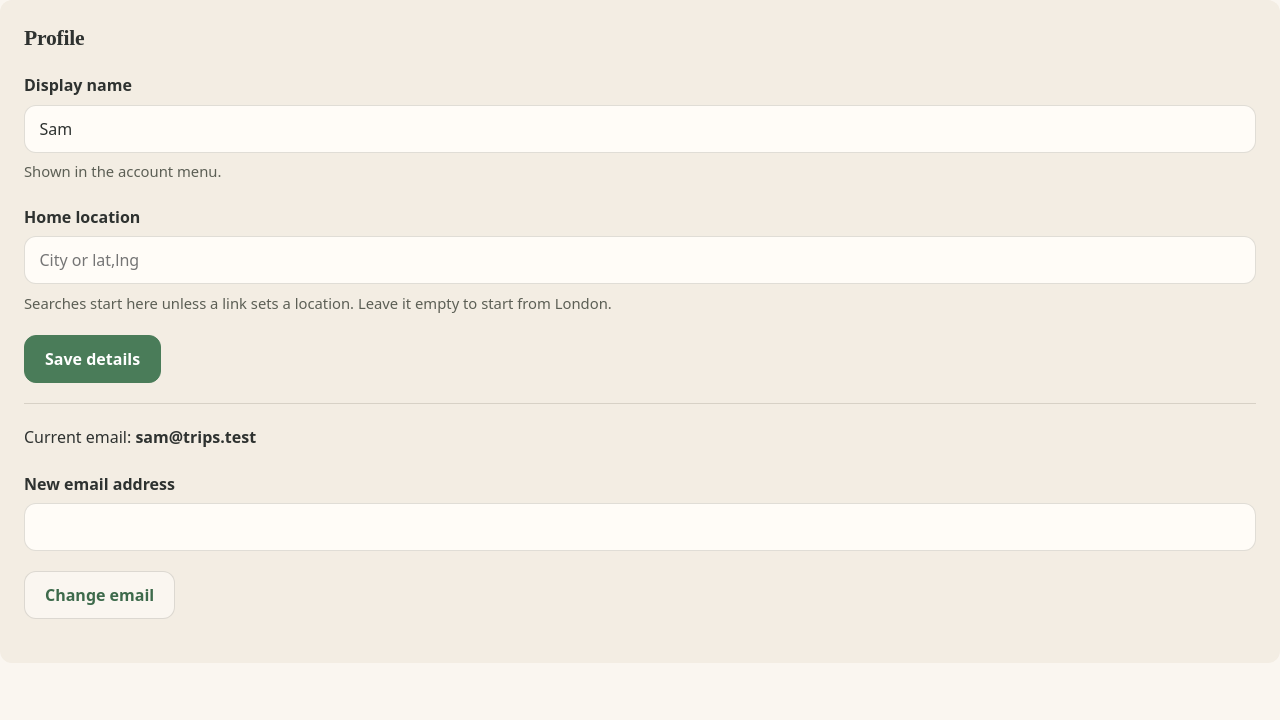
Test: ProfileSection › saves a trimmed name and a home location from the place search
The width and height of the screenshot is (1280, 720).
Replace the text in the field labelled "Display name" with "  Sam R  ": [640, 129] box [24, 105, 1256, 153]
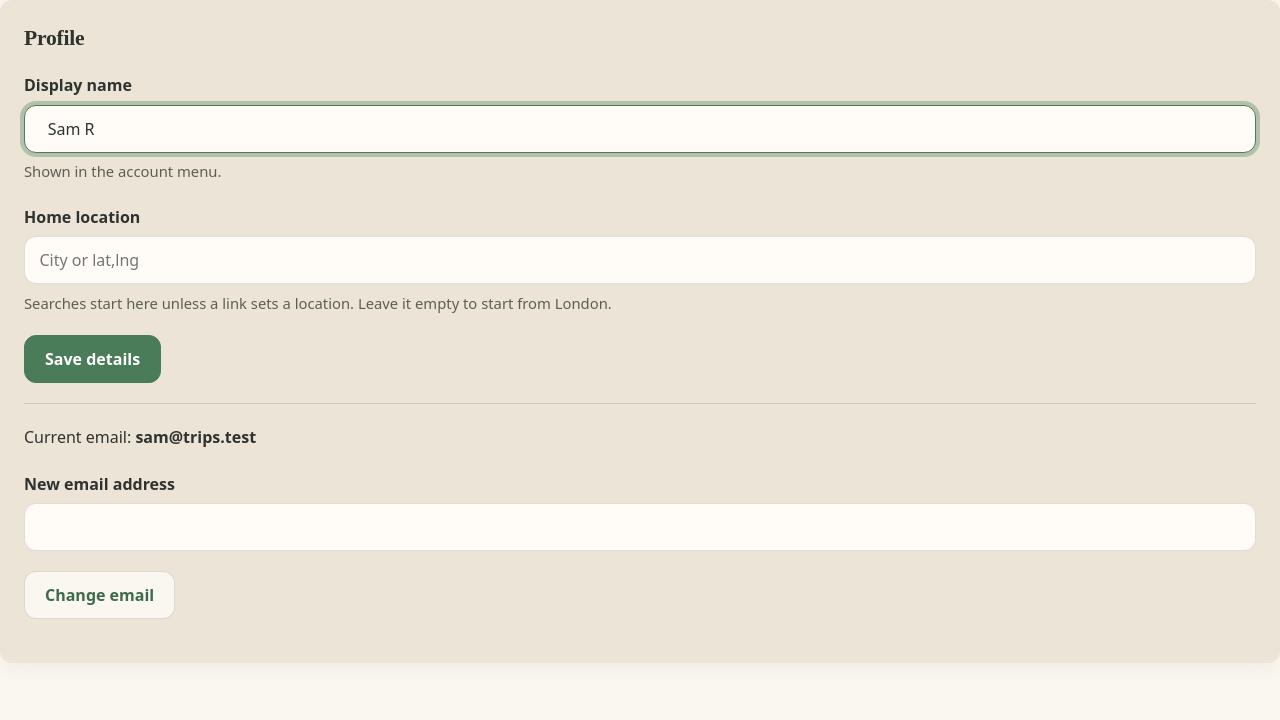
In the field labelled "Home location": [640, 260] box [24, 236, 1256, 284], type "bright"
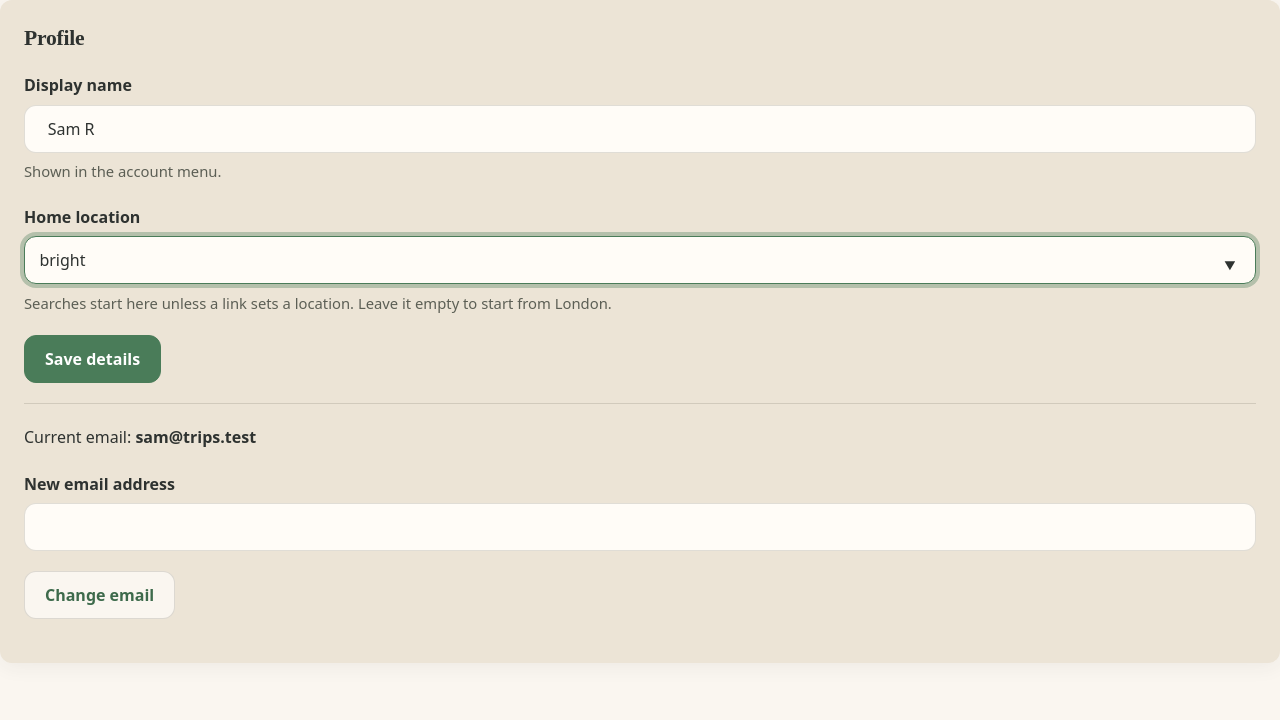
Click the button "Save details": [93, 359] box [24, 335, 161, 383]
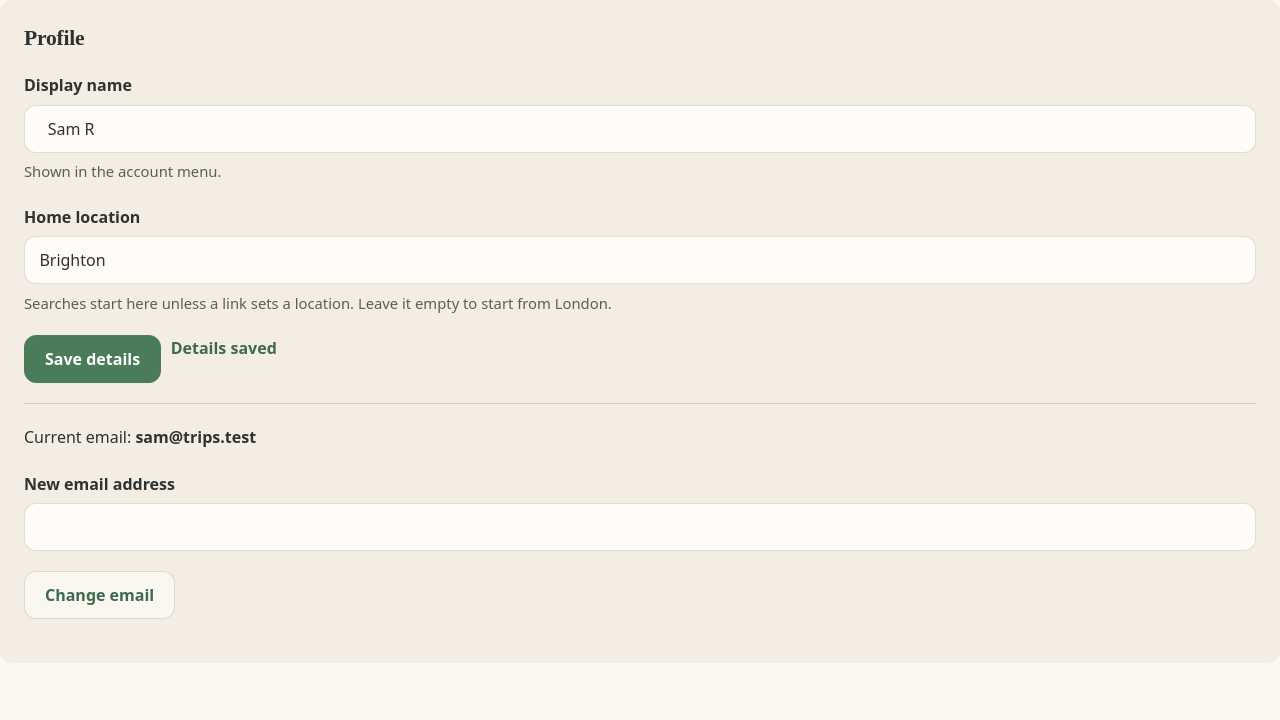
Expected: the message reads "Details saved", [171, 337, 277, 359]
Expected: the field labelled "Home location" holds "Brighton", [24, 236, 1256, 284]
